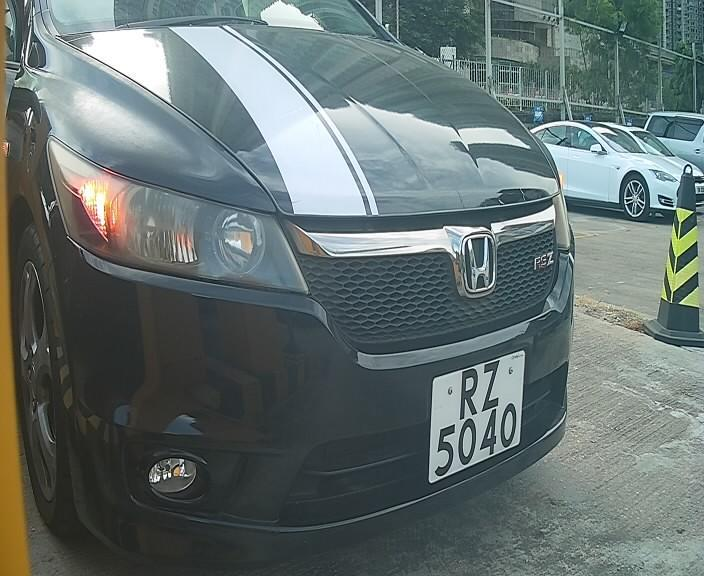privatecar: (32, 11, 591, 546)
